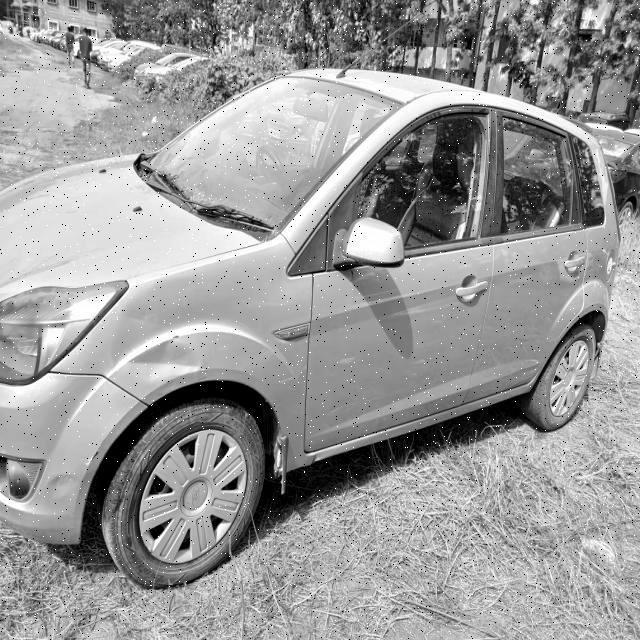fender-dent: (112, 284, 311, 430)
front-bumper-dent: (0, 373, 108, 544)
